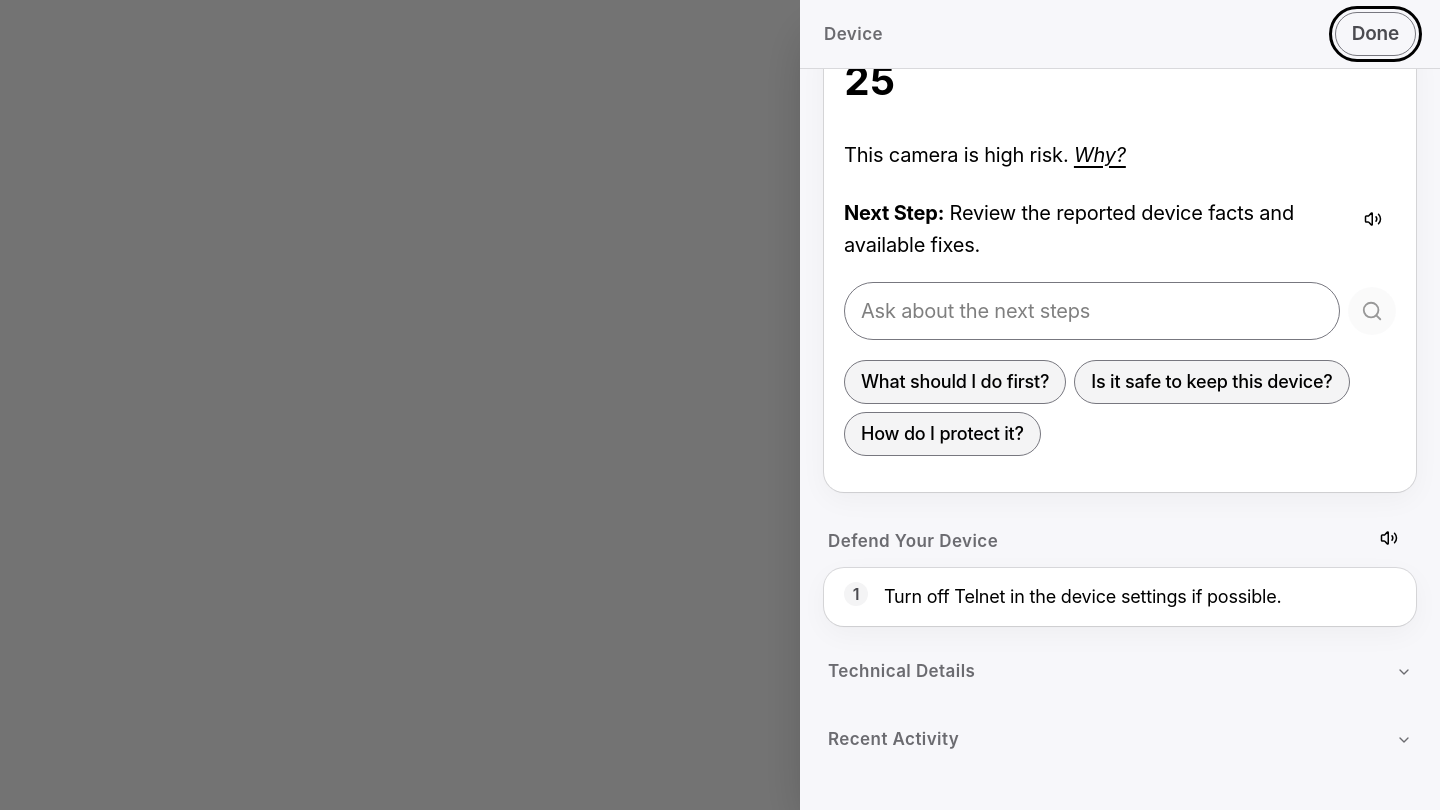
Test: collapses recent activity and places icon-only audio beside the defenses heading
(page scrolled)
Expected: the text "Was first recorded on your network" is not shown
Click the button "Recent Activity": point(894, 739) x1=824 y1=718 x2=1416 y2=762
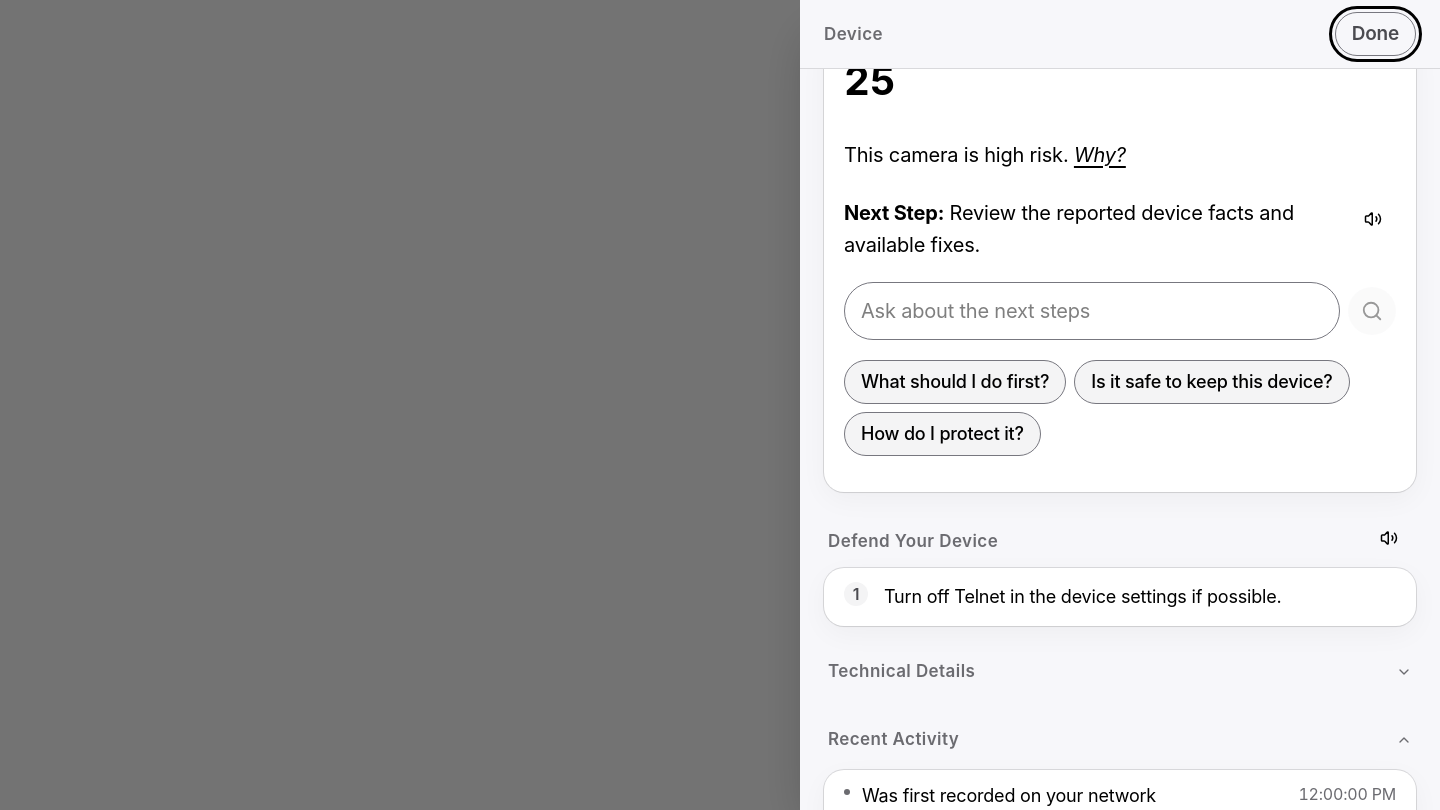
Expected: the heading "Defend Your Device" is shown, x1=828 y1=528 x2=998 y2=555
Now the text "Was first recorded on your network" is shown, box x1=862 y1=782 x2=1156 y2=809
